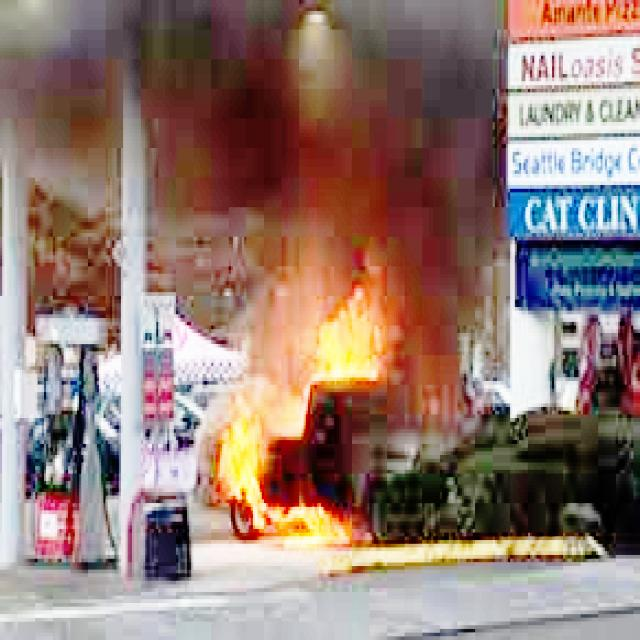api: (212, 290, 399, 552)
